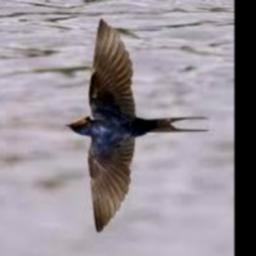Swallow: (66, 18, 211, 233)
